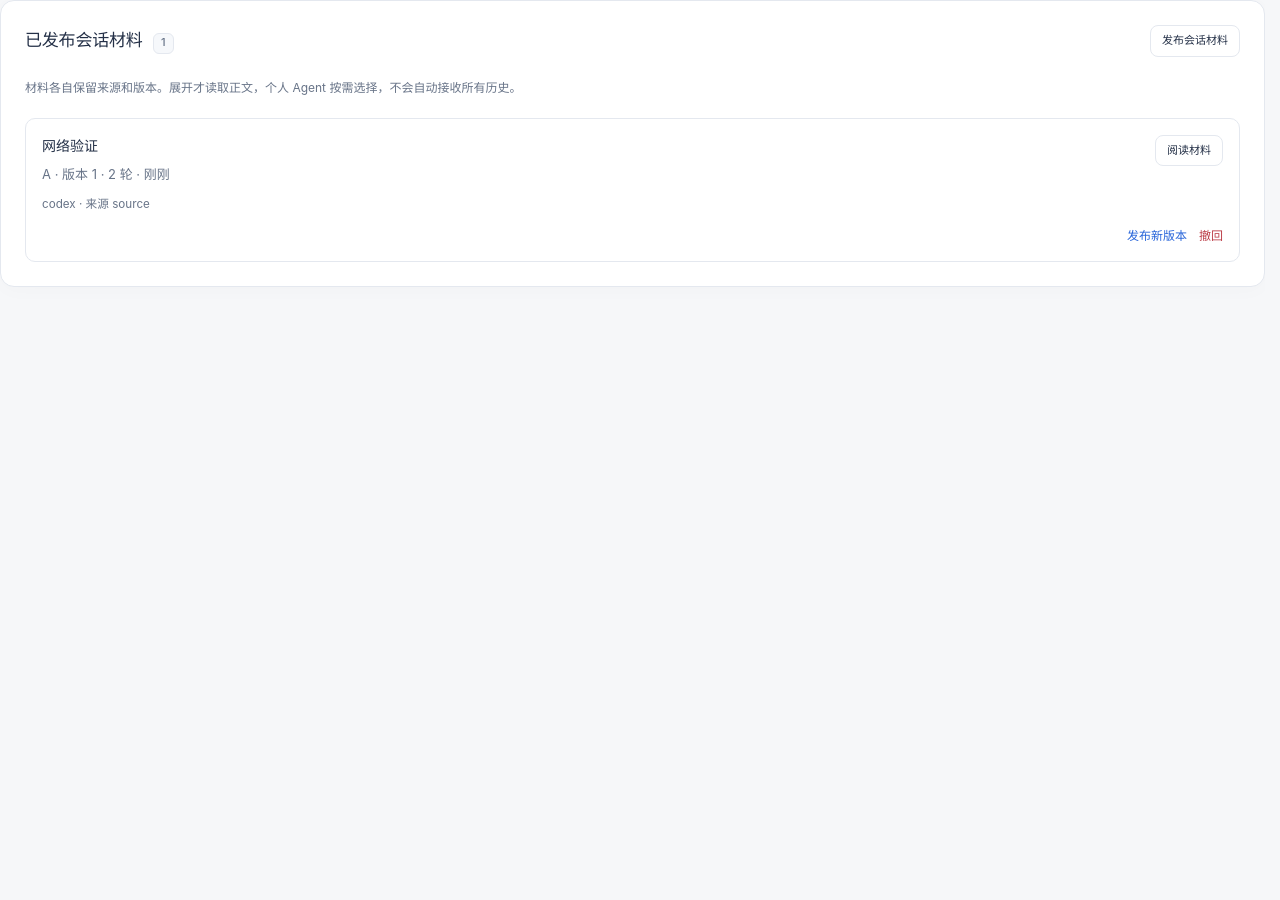
Scenario: folds long tool output and reads the selected item without advancing the stream
The width and height of the screenshot is (1280, 900).
Click the button "阅读材料".
click(1189, 150)  # box [1155, 135, 1223, 166]
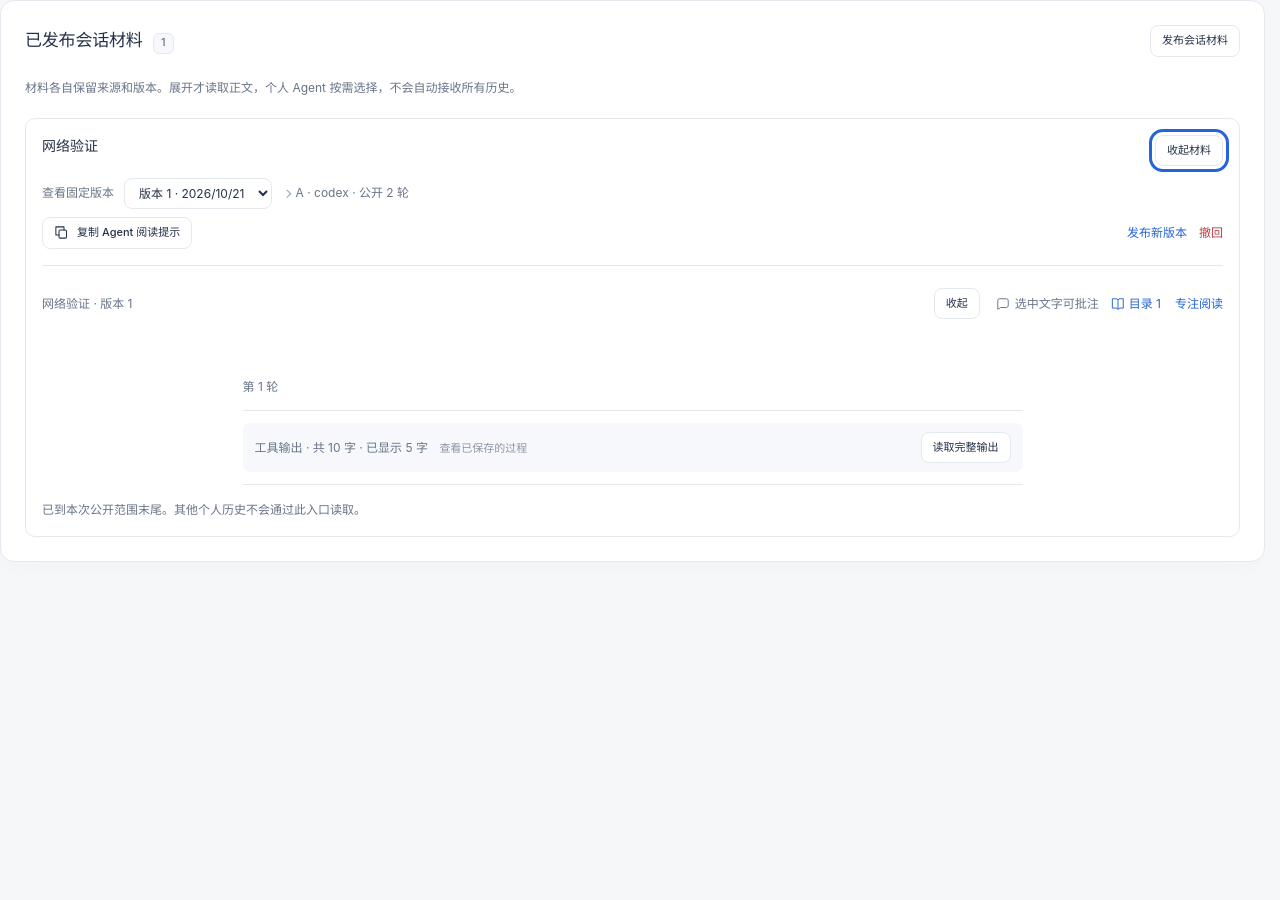
Now the text "工具输出 · 共 10 字 · 已显示 5 字 查看已保存的过程" is shown, box [254, 440, 527, 455]
Click the button "读取完整输出".
click(966, 448)  # box [920, 432, 1010, 463]
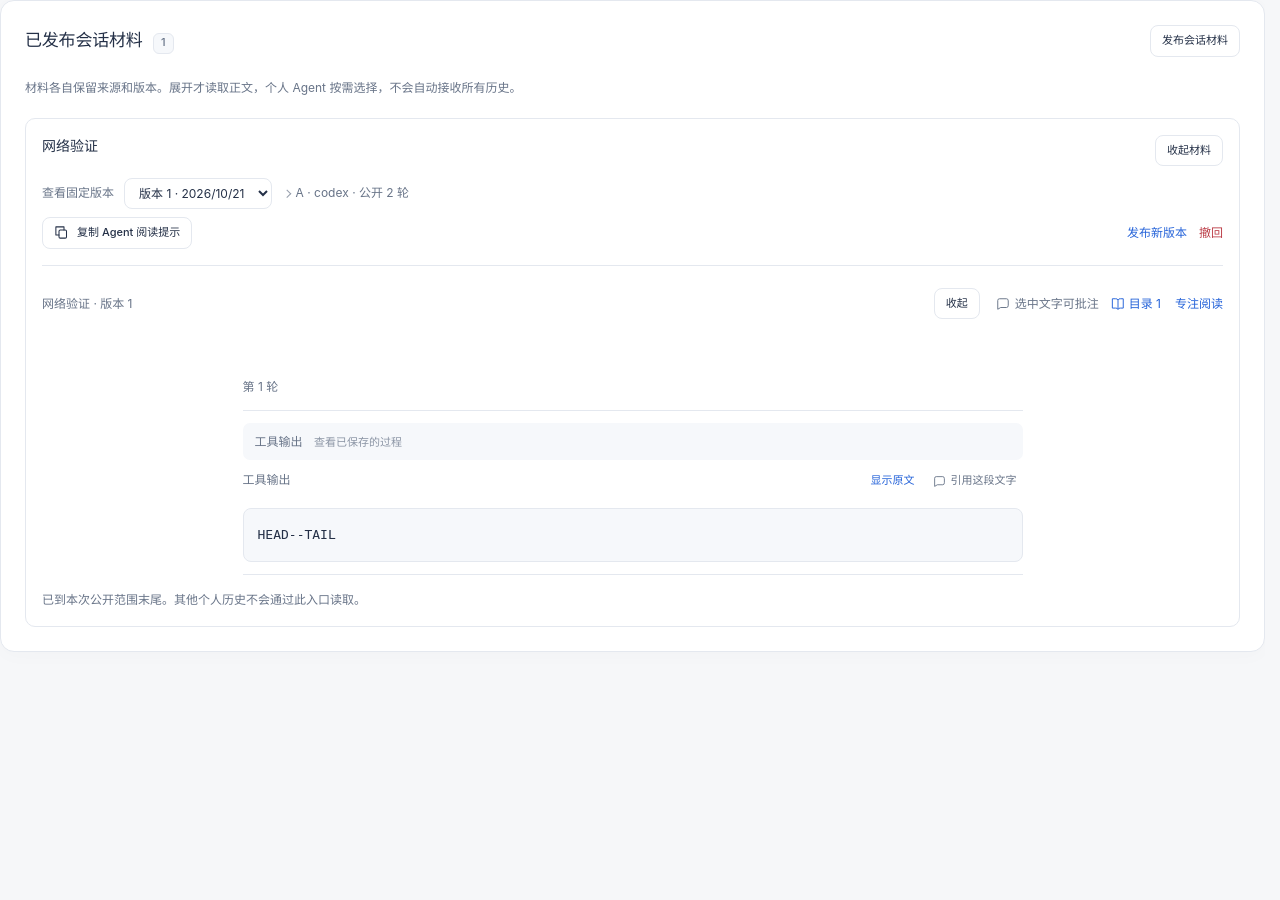
Now the button "读取完整输出" is gone
Now the text "HEAD--TAIL" is shown, box [258, 527, 336, 542]
